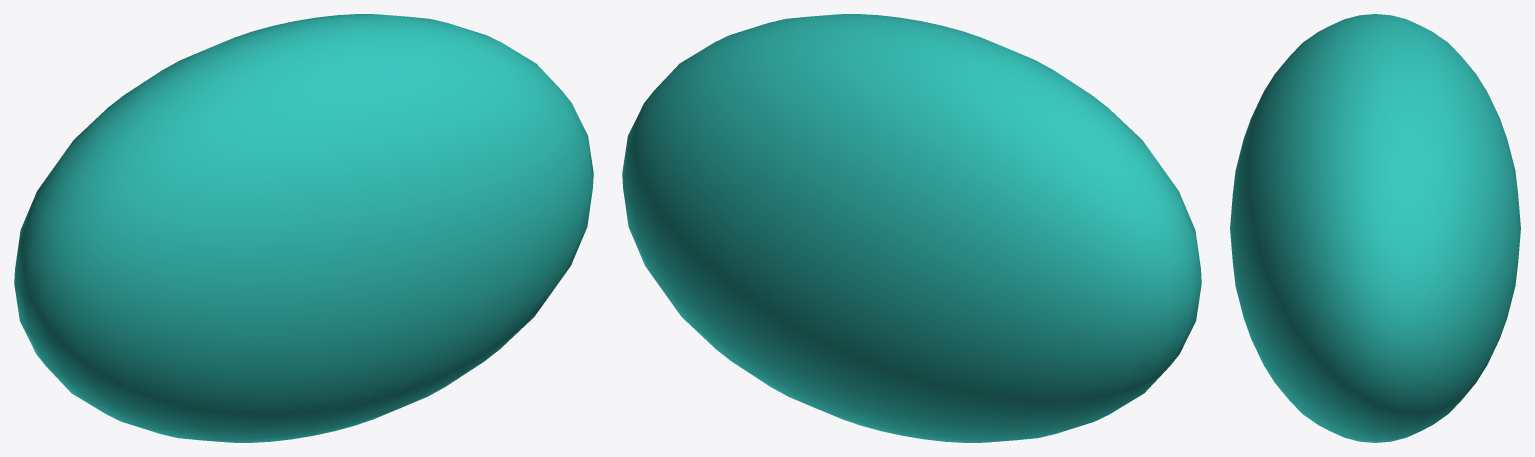
Rendered from ellipsoid-quality.glb.
The picture shows the model from 3 angles, left to right: view 1: azimuth 30°, elevation 25°; view 2: azimuth 150°, elevation 25°; view 3: azimuth 270°, elevation 25°; orthographic projection. The views are drawn at different scales.
Parts seen in each view (by area): view 1: Ellipsoid; view 2: Ellipsoid; view 3: Ellipsoid.
Part boxes in pixels (x1,y1,x2,y2): Ellipsoid: [14, 14, 593, 442]; Ellipsoid: [622, 14, 1201, 442]; Ellipsoid: [1230, 14, 1520, 442].
Bounding box in the file's own units: 2.4 × 1.6 × 1.2.
